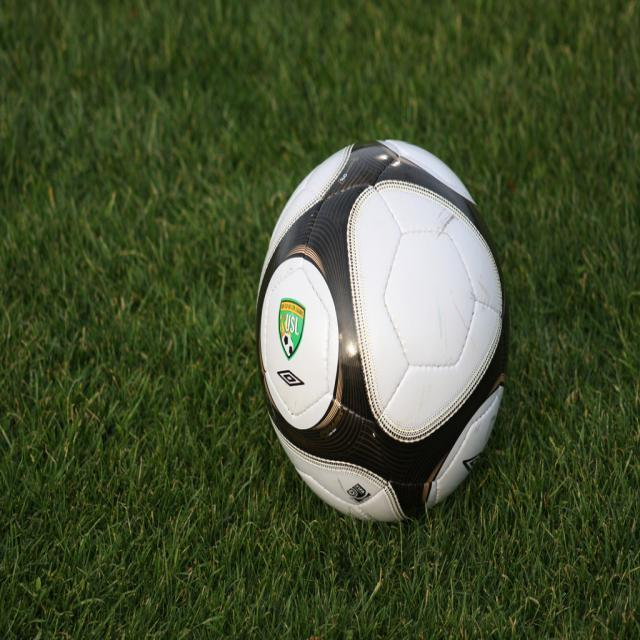ball: (254, 136, 506, 527)
